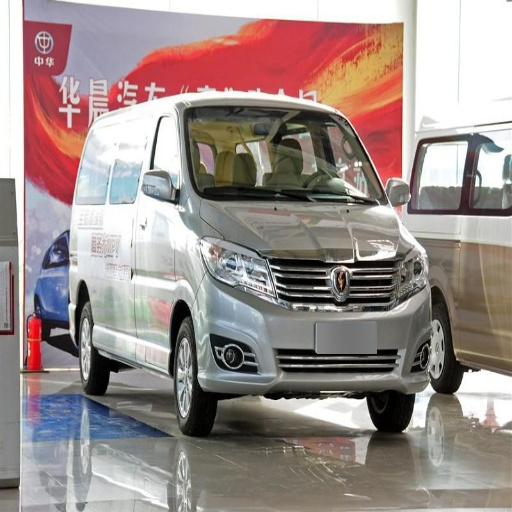front_bumper: (203, 264, 430, 389)
front_glass: (187, 106, 384, 203)
front_left_light: (392, 249, 428, 306)
front_right_door: (129, 112, 186, 354)
front_right_light: (200, 237, 274, 297)
hood: (205, 201, 410, 302)
